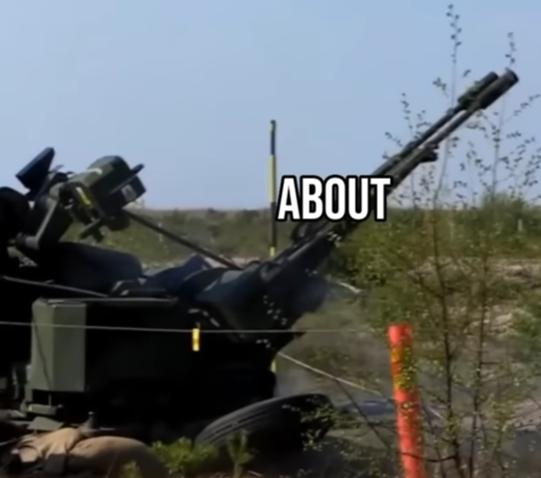MIL_SPG: (0, 72, 516, 437)
